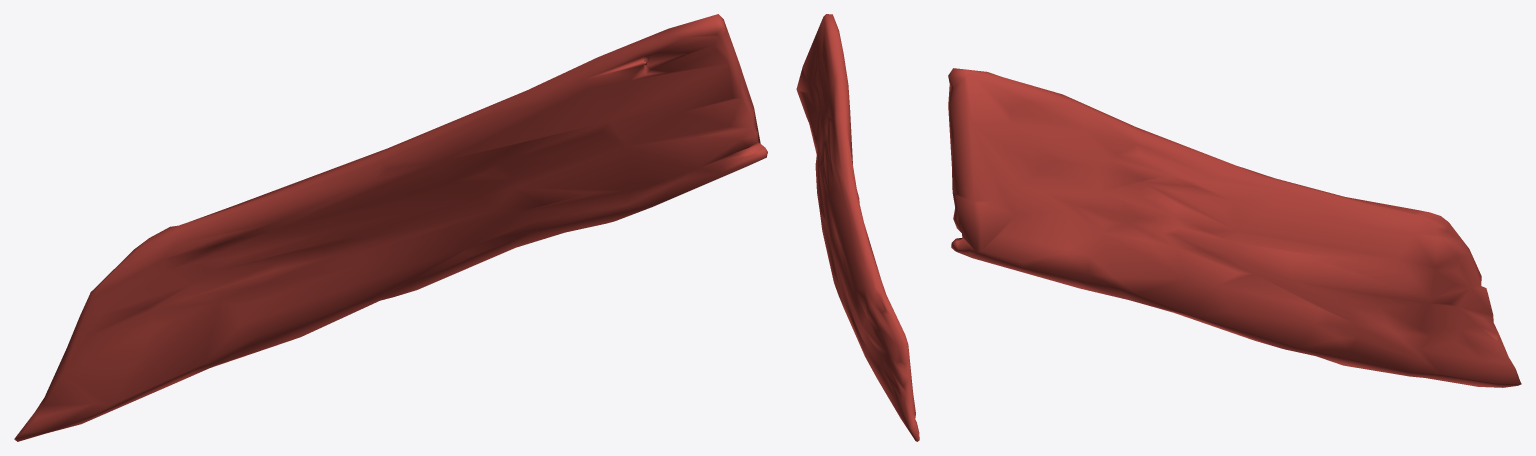
File: musculos-teres-major-muscle-l.glb
3 renders of one model, left to right at view 1: azimuth 30°, elevation 25°; view 2: azimuth 150°, elevation 25°; view 3: azimuth 270°, elevation 25°, orthographic. The views are drawn at different scales.
Parts seen in each view (by area): view 1: Teres major muscle.l; view 2: Teres major muscle.l; view 3: Teres major muscle.l.
Part boxes in pixels (x1,y1,x2,y2): Teres major muscle.l: [14, 14, 767, 441]; Teres major muscle.l: [796, 14, 919, 441]; Teres major muscle.l: [948, 68, 1521, 387].
Bounding box in the file's own units: 0.0856 × 0.0861 × 0.0827.
